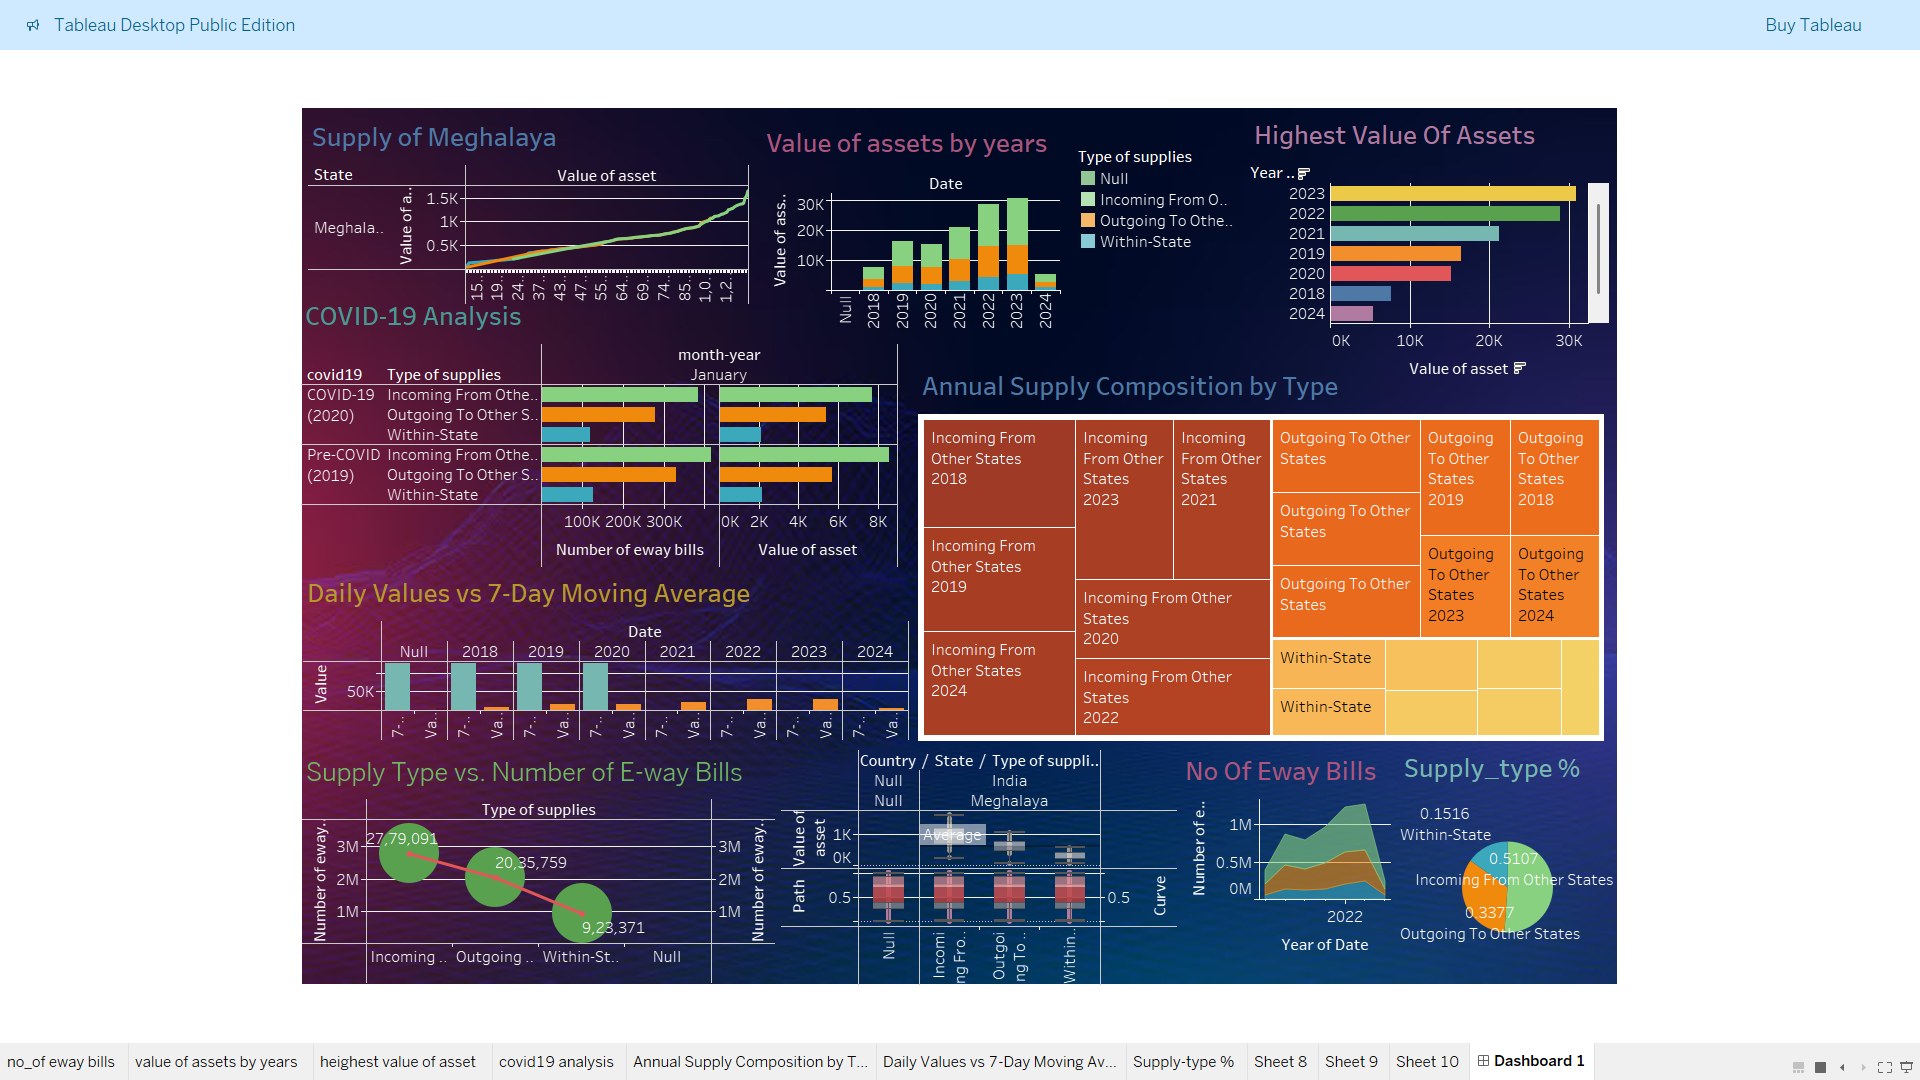

The dashboard page shown, as its layout file describes it:
{"tool":"tableau","page":{"name":"Dashboard 1","canvas":[1500,900],"ordinal":0},"visuals":[{"type":"image","param":"C:/Users/jainj/Downloads/dashboard.jpg","box":[8,8,1484,884]},{"type":"worksheet","title":"heighest value of asset","mark":"Automatic","rows":["Date"],"cols":["Value of asset"],"box":[1040,17,359,273]},{"type":"worksheet","title":"Sheet 10","mark":"Line","rows":["State","Value of asset"],"cols":["Value of asset"],"box":[98,19,441,190]},{"type":"worksheet","title":"value of assets by years","mark":"Bar","rows":["Value of asset"],"cols":["Date"],"box":[550,25,303,212]},{"type":"legend","title":"no_of eway bills","param":"[federated.0em7k5w0wbxith1fsds2b03an2i3].[none:Type of supplies:nk]","box":[868,50,160,131]},{"type":"worksheet","title":"covid19 analysis","mark":"Bar","rows":["Calculation_1522779687915872261","Type of supplies"],"cols":["Calculation_1522779687915716612","Number of eway bills","Value of asset"],"box":[91,198,598,274]},{"type":"worksheet","title":"Annual Supply Composition by Type","mark":"Automatic","box":[708,268,686,377]},{"type":"worksheet","title":"Daily Values vs 7-Day Moving Average","mark":"Bar","cols":["Date"],"box":[93,475,606,171]},{"type":"worksheet","title":"Supply-type %","mark":"Pie","box":[1190,650,215,232]},{"type":"worksheet","title":"no_of eway bills","mark":"Area","rows":["Number of eway bills"],"cols":["Date"],"box":[971,653,210,213]},{"type":"worksheet","title":"Sheet 9","mark":"Circle","rows":["Value of asset"],"cols":["Country","State","Type of supplies"],"box":[571,654,397,237]},{"type":"worksheet","title":"Sheet 8","mark":"Automatic","rows":["Number of eway bills","Number of eway bills"],"cols":["Type of supplies"],"box":[92,656,474,232]}]}

Visuals, with their boxes on the page's 1500x900 design canvas (x1, y1, x2, y2). These are canvas units, not pixel positions in the 1920x1080 screenshot, which may show the page scaled, cropped or inside an application window:
image: x1=8 y1=8 x2=1492 y2=892
"heighest value of asset" worksheet: x1=1040 y1=17 x2=1399 y2=290
"Sheet 10" worksheet (Line marks): x1=98 y1=19 x2=539 y2=209
"value of assets by years" worksheet (Bar marks): x1=550 y1=25 x2=853 y2=237
"no_of eway bills" legend: x1=868 y1=50 x2=1028 y2=181
"covid19 analysis" worksheet (Bar marks): x1=91 y1=198 x2=689 y2=472
"Annual Supply Composition by Type" worksheet: x1=708 y1=268 x2=1394 y2=645
"Daily Values vs 7-Day Moving Average" worksheet (Bar marks): x1=93 y1=475 x2=699 y2=646
"Supply-type %" worksheet (Pie marks): x1=1190 y1=650 x2=1405 y2=882
"no_of eway bills" worksheet (Area marks): x1=971 y1=653 x2=1181 y2=866
"Sheet 9" worksheet (Circle marks): x1=571 y1=654 x2=968 y2=891
"Sheet 8" worksheet: x1=92 y1=656 x2=566 y2=888
